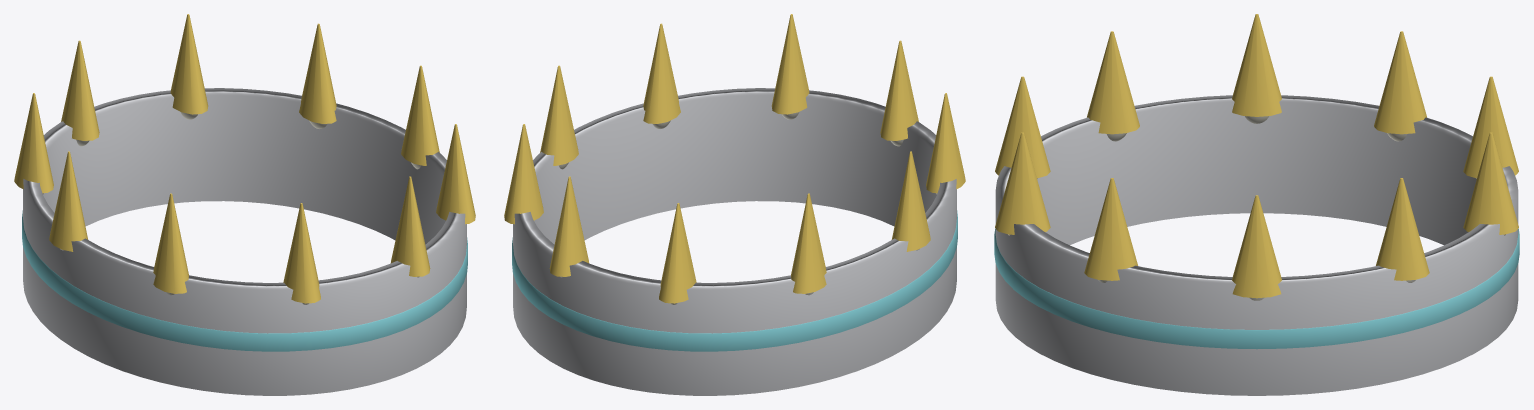
File: angels_crown.glb
3 views of the same model, side by side, from view 1: azimuth 30°, elevation 25°; view 2: azimuth 150°, elevation 25°; view 3: azimuth 270°, elevation 25° (orthographic). The views are drawn at different scales.
Bounding box in the file's own units: 24 × 11.14 × 27.05.
